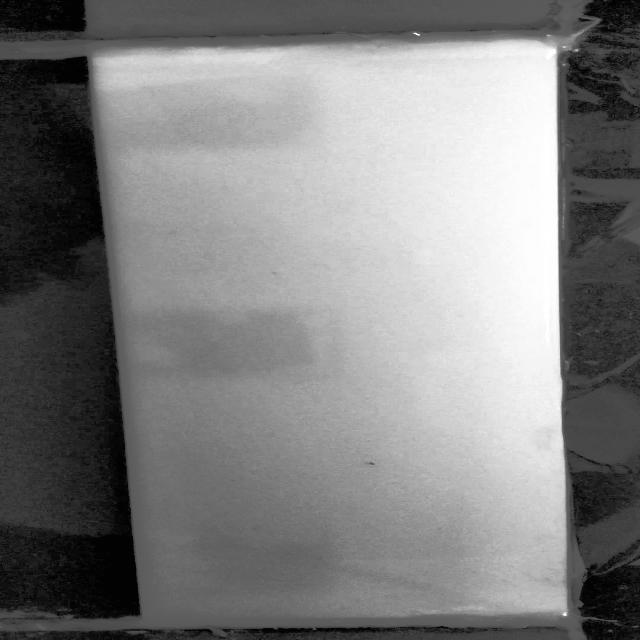shrimp: (361, 461, 385, 468)
